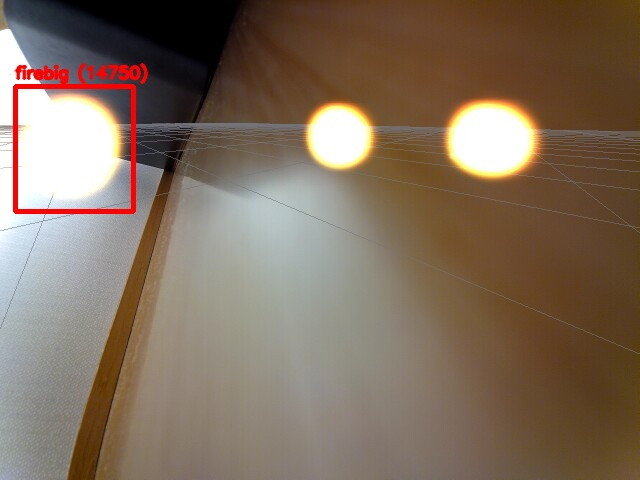firebig: (15, 86, 133, 211)
